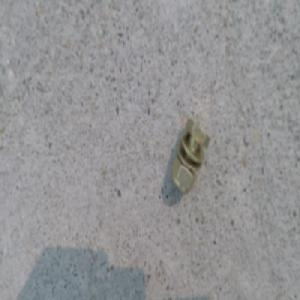BoltNutSet: (167, 121, 206, 194)
